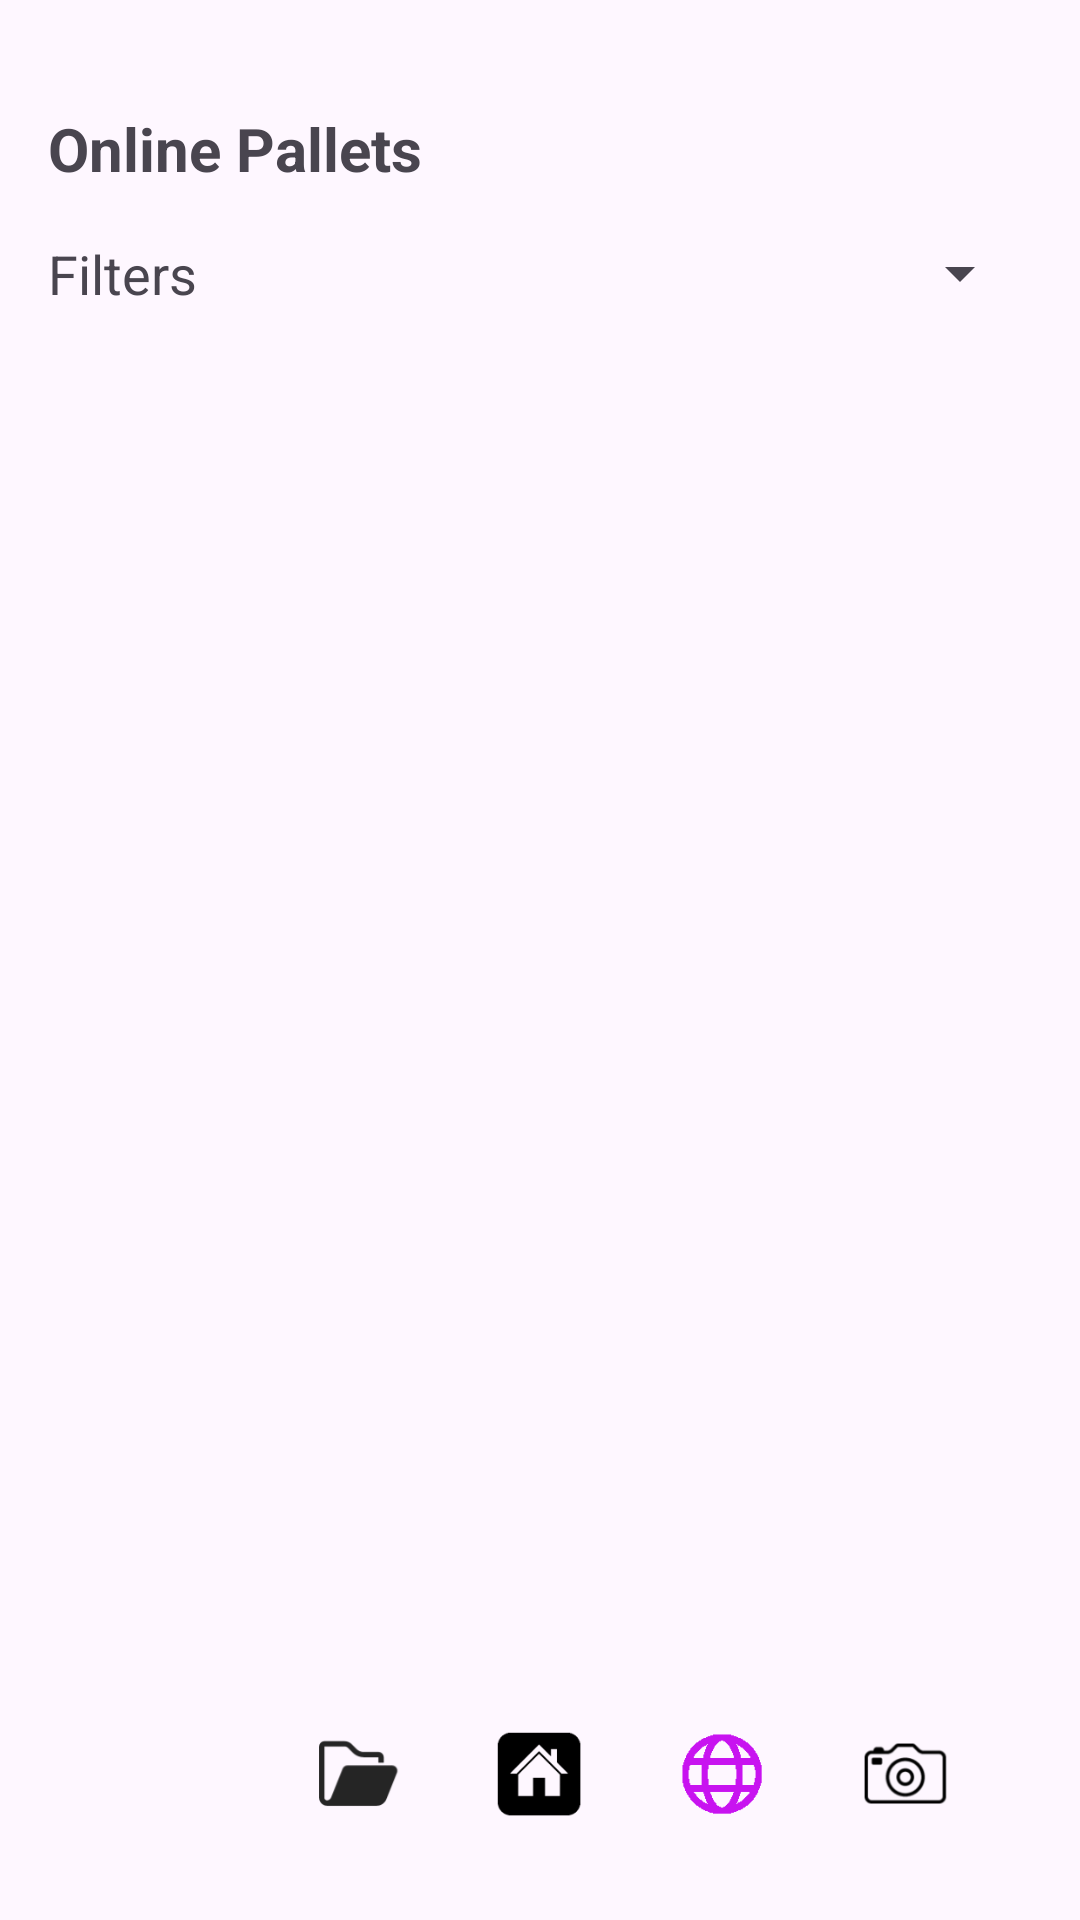

Screen size 1080w x 1920h. Icon name, then its box in pixels as (x1, y1, x2, y2):
camera: (864, 1743, 947, 1804)
home: (497, 1732, 581, 1816)
open: (319, 1740, 398, 1806)
www current: (682, 1734, 762, 1814)
